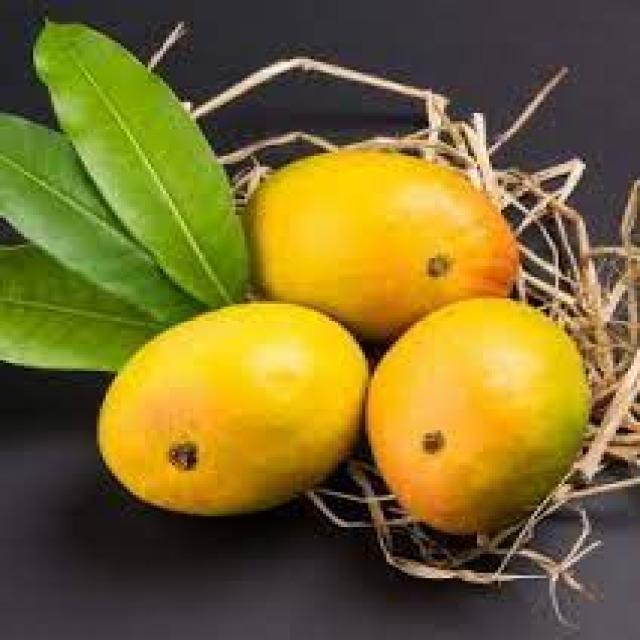Mango: (94, 298, 368, 516), (242, 145, 520, 344), (362, 296, 589, 536)
